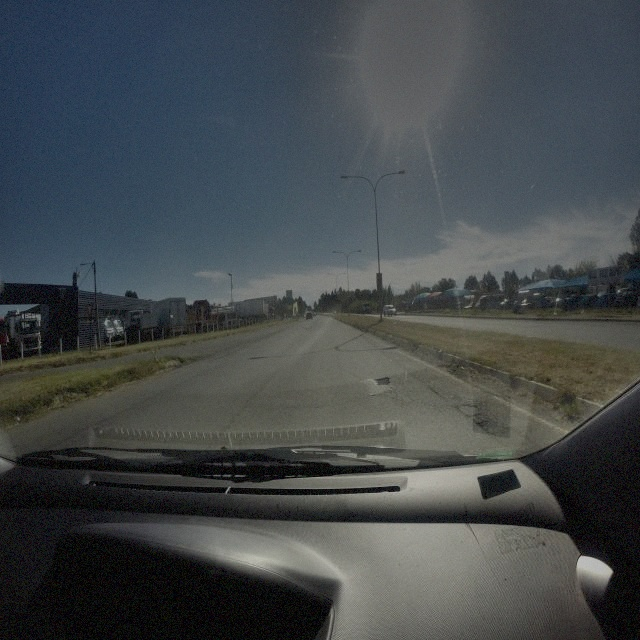pothole: (476, 417, 492, 433), (374, 375, 391, 387)
